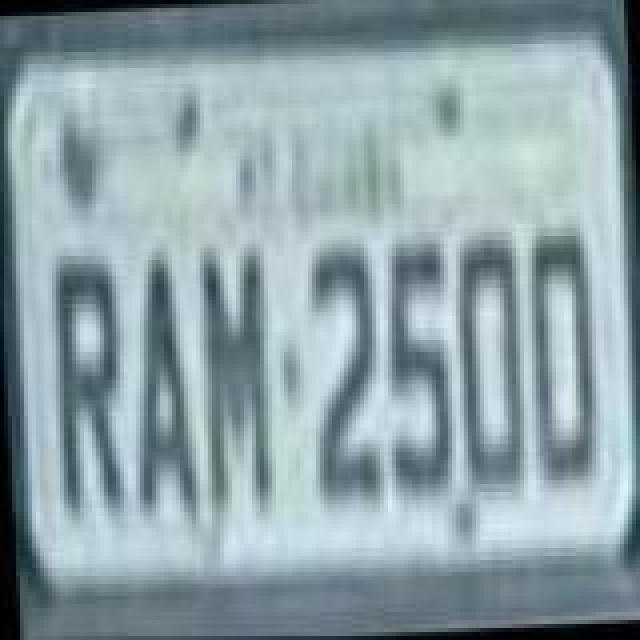2: (302, 246, 390, 510)
5: (376, 236, 460, 496)
A: (122, 246, 202, 522)
M: (192, 246, 276, 518)
O: (450, 230, 530, 494), (524, 228, 600, 484)
R: (50, 256, 130, 512)
